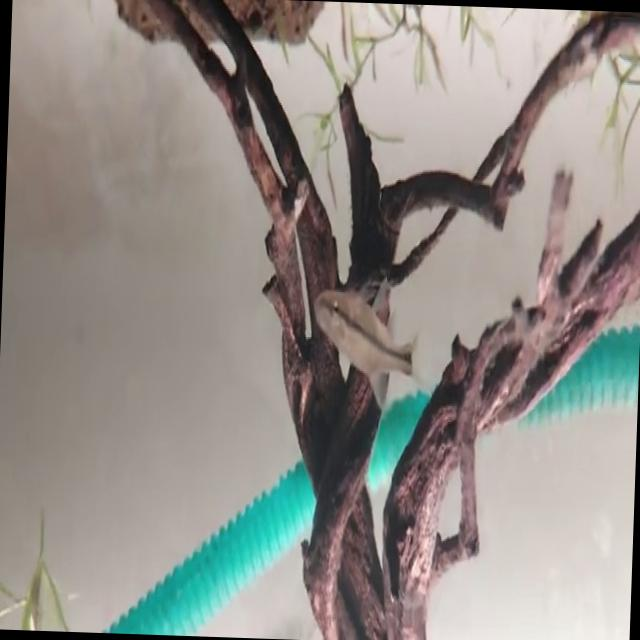Cakil Baligi: (300, 278, 430, 406)
